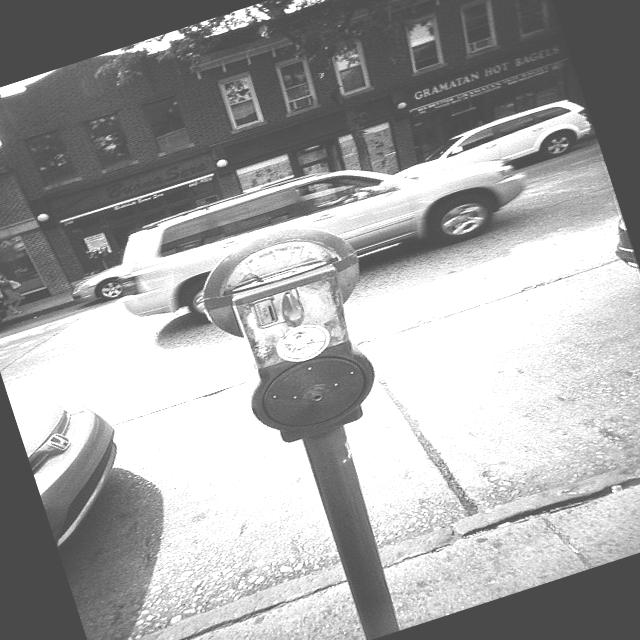Vehicle: (10, 199, 640, 556), (103, 108, 542, 347), (400, 95, 596, 194), (65, 264, 128, 310), (0, 289, 11, 325)
